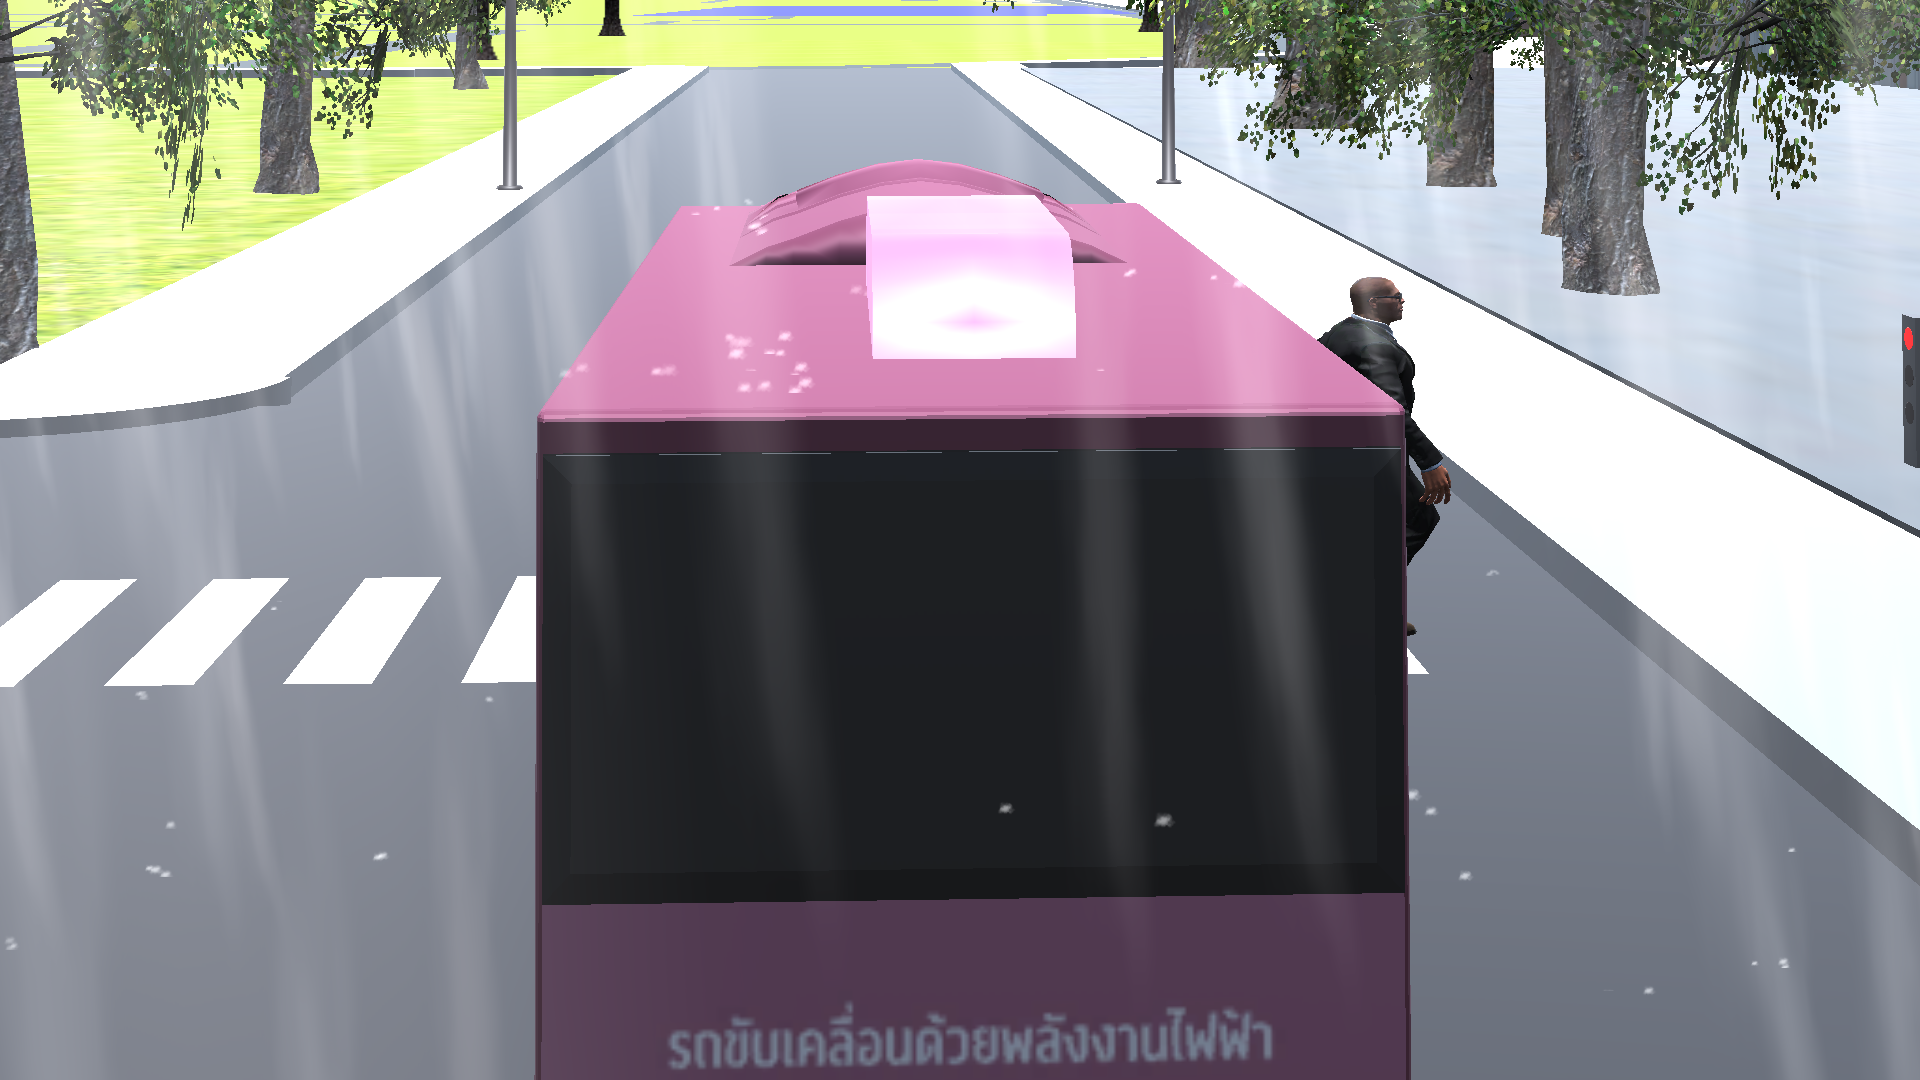pedestrian: (1305, 265, 1465, 674)
